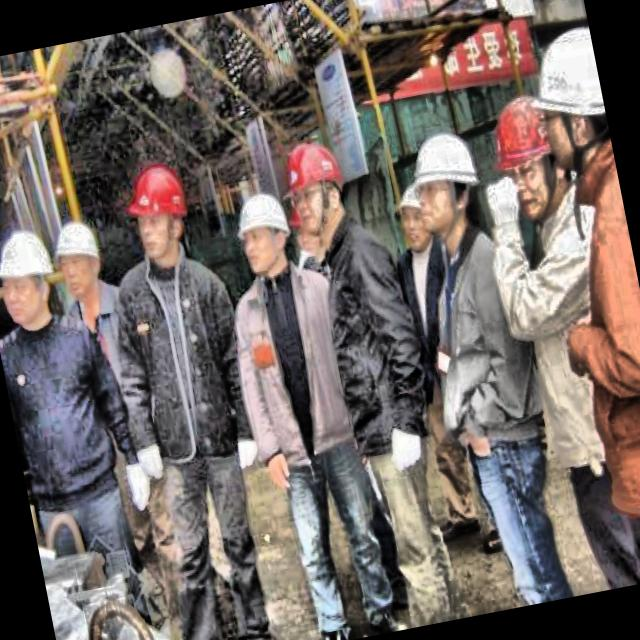helmet: (523, 18, 618, 195), (484, 88, 574, 228), (400, 120, 487, 248), (118, 157, 200, 266), (280, 134, 356, 246), (0, 216, 66, 336), (227, 182, 300, 282), (48, 211, 114, 303), (388, 180, 435, 254)
